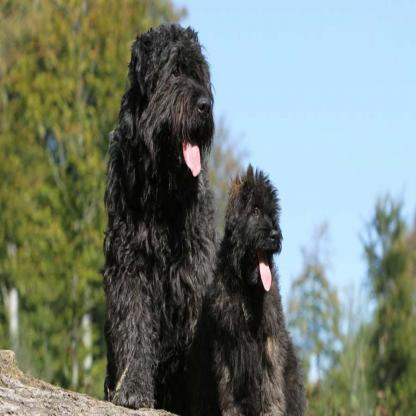Bouvier De Flandres: (96, 8, 219, 406), (212, 154, 295, 394)
